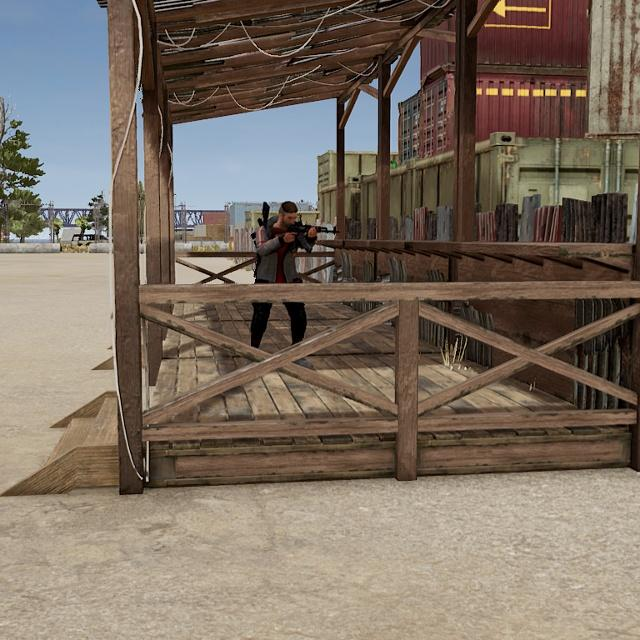head: (277, 200, 300, 228)
people: (250, 199, 317, 372)
